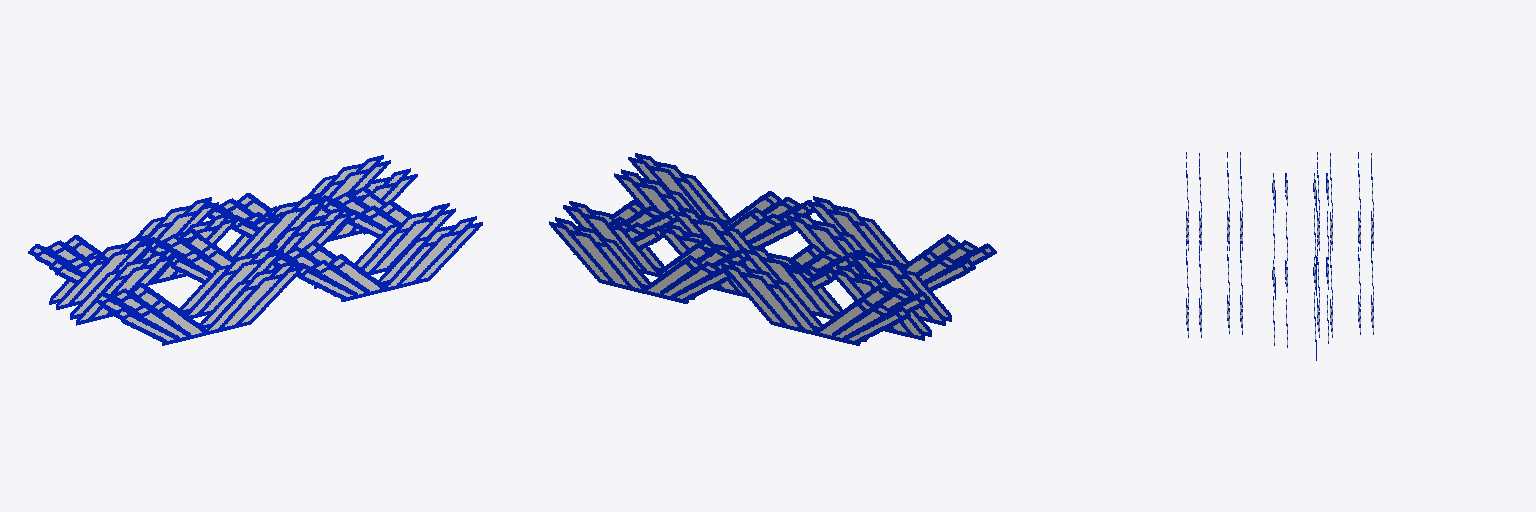
The picture shows the model from 3 angles: view 1: azimuth 30°, elevation 25°; view 2: azimuth 150°, elevation 25°; view 3: azimuth 270°, elevation 25°; orthographic projection.
Parts seen in each view (by area): view 1: group3 pasted__pasted__pasted__pPlane1 pasted__pasted__group1 pa, group3 pasted__pasted__pPlane1 pasted__group1, group4 pasted__pasted__pasted__pPlane1 pasted__pasted__group1 pa, group3 pasted__pasted__pPlane1 pasted__group, pasted__pPlane1 group3, group4 pasted__pasted__pPlane1 pasted__group, pasted__pPlane1 group4, group4 pasted__pasted__pPlane1 pasted__group1, pasted__pPlane1 group, pPlane1, pasted__pasted__pPlane1 pasted__group1 group2, pasted__pPlane1 group1; view 2: pasted__pPlane1 group, pPlane1, pasted__pasted__pPlane1 pasted__group1 group2, group3 pasted__pasted__pasted__pPlane1 pasted__pasted__group1 pa, group3 pasted__pasted__pPlane1 pasted__group1, group3 pasted__pasted__pPlane1 pasted__group, group4 pasted__pasted__pasted__pPlane1 pasted__pasted__group1 pa, pasted__pPlane1 group1, pasted__pPlane1 group3, group4 pasted__pasted__pPlane1 pasted__group1, group4 pasted__pasted__pPlane1 pasted__group, pasted__pPlane1 group4; view 3: none.
Boxes of the visible parts, x1,y1,x2,y2 form: group3 pasted__pasted__pasted__pPlane1 pasted__pasted__group1 pa: [114, 260, 304, 345]; group3 pasted__pasted__pPlane1 pasted__group1: [297, 216, 482, 301]; group4 pasted__pasted__pasted__pPlane1 pasted__pasted__group1 pa: [70, 243, 234, 325]; group3 pasted__pasted__pPlane1 pasted__group: [94, 245, 283, 318]; pasted__pPlane1 group3: [272, 203, 455, 288]; group4 pasted__pasted__pPlane1 pasted__group: [49, 228, 227, 309]; pasted__pPlane1 group4: [226, 186, 385, 257]; group4 pasted__pasted__pPlane1 pasted__group1: [269, 200, 411, 269]; pasted__pPlane1 group: [28, 197, 218, 265]; pPlane1: [204, 155, 390, 233]; pasted__pasted__pPlane1 pasted__group1 group2: [49, 212, 238, 284]; pasted__pPlane1 group1: [232, 168, 417, 241]; pasted__pPlane1 group: [721, 259, 910, 345]; pPlane1: [549, 217, 731, 303]; pasted__pasted__pPlane1 pasted__group1 group2: [741, 244, 930, 318]; group3 pasted__pasted__pasted__pPlane1 pasted__pasted__group1 pa: [807, 196, 996, 266]; group3 pasted__pasted__pPlane1 pasted__group1: [628, 153, 813, 226]; group3 pasted__pasted__pPlane1 pasted__group: [786, 211, 975, 290]; group4 pasted__pasted__pasted__pPlane1 pasted__pasted__group1 pa: [790, 243, 951, 325]; pasted__pPlane1 group1: [563, 201, 748, 276]; pasted__pPlane1 group3: [614, 169, 797, 247]; group4 pasted__pasted__pPlane1 pasted__group1: [612, 200, 756, 269]; group4 pasted__pasted__pPlane1 pasted__group: [745, 258, 931, 340]; pasted__pPlane1 group4: [573, 216, 747, 297].
Size of the model in its own units: 7.77 by 1.06 by 3.42.
2 materials, 2 textured.